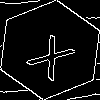X: (25, 25, 84, 82)
